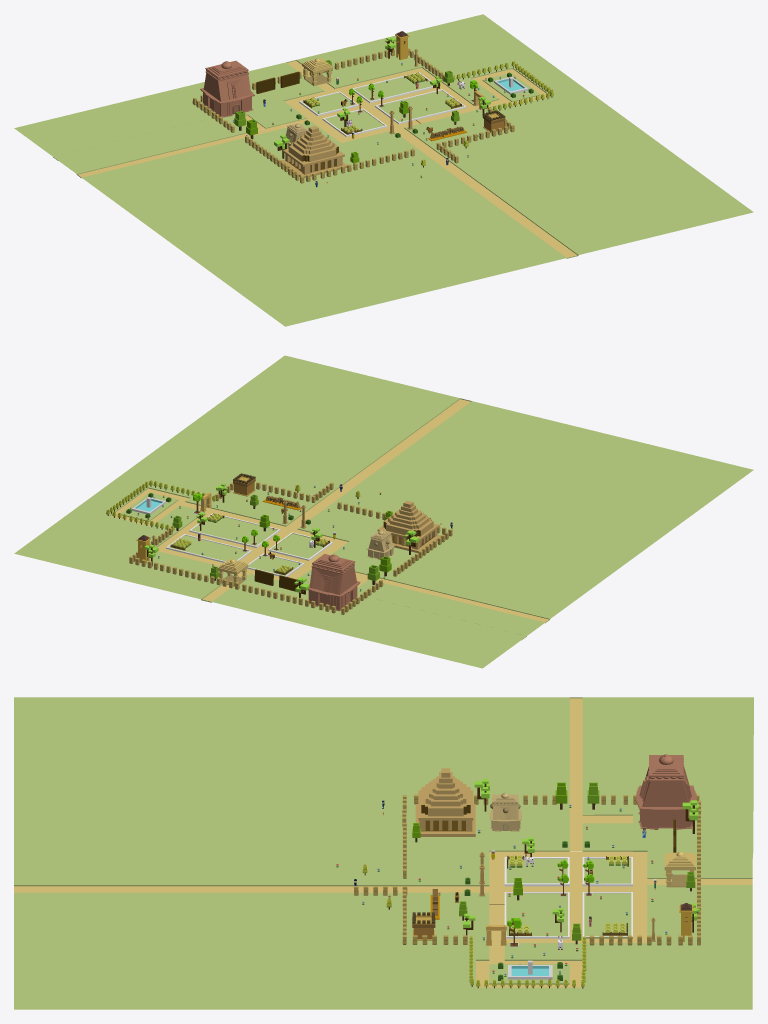
The model's file is aaryavartaGameFirst.glb.
3 views of the same model, one above another, from view 1: azimuth 30°, elevation 25°; view 2: azimuth 150°, elevation 25°; view 3: azimuth 270°, elevation 25° (orthographic). The views are drawn at different scales.
Parts seen in each view (by area): view 1: ground, structuretemple, sourcesLink, structure; view 2: ground, structuretemple, sourcesLink, structuretemple.001, structure; view 3: ground, structuretemple, sourcesLink, structuretemple.001, structure, quizShrine, structurebunker.
Boxes of the visible parts, x1,y1,x2,y2 form: ground: (14,14,753,326); structuretemple: (200,60,254,117); sourcesLink: (281,126,347,178); structure: (302,58,332,85); ground: (14,355,753,668); structuretemple: (307,554,360,611); sourcesLink: (377,500,441,553); structuretemple.001: (367,530,394,559); structure: (217,559,248,586); ground: (14,697,753,1009); structuretemple: (636,754,696,829); sourcesLink: (415,768,475,836); structuretemple.001: (489,793,521,831); structure: (664,851,695,887); quizShrine: (508,960,552,979); structurebunker: (412,912,435,940).
Size of what is drawn, in the model's own units: 3211 by 308 by 3218.
